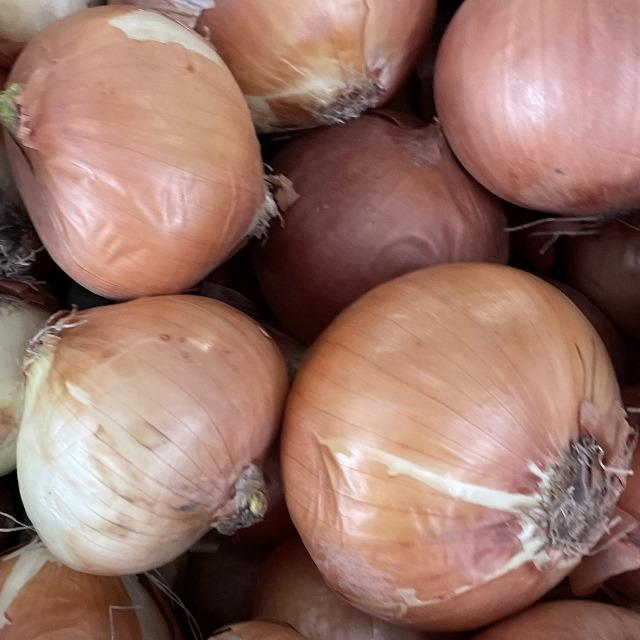onion: (267, 252, 640, 632), (0, 0, 280, 310), (430, 0, 640, 237)
